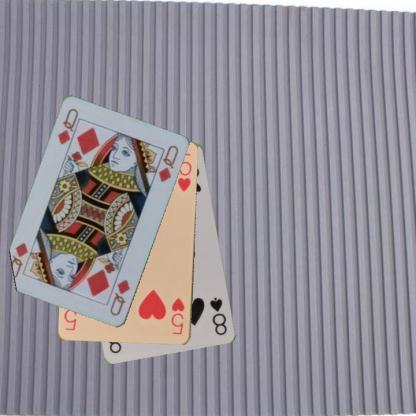5h: (169, 296, 186, 336)
8s: (207, 295, 229, 337)
Qd: (55, 106, 82, 152), (108, 276, 131, 318)
